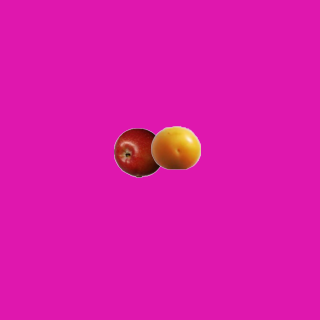Apple Braeburn: (113, 127, 163, 177)
Cherry Wax Yellow: (150, 122, 200, 172)
